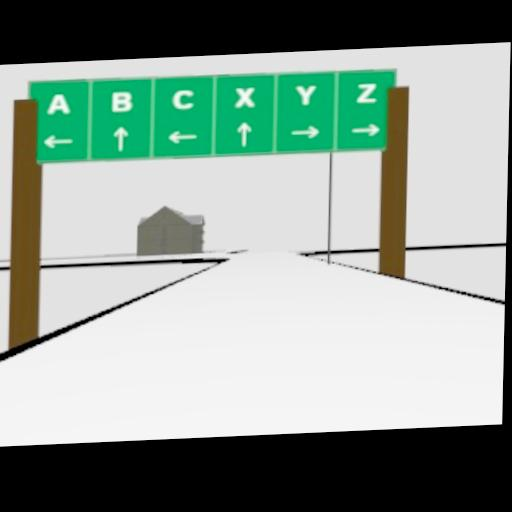A: (46, 91, 71, 115)
B: (111, 90, 132, 111)
C: (173, 89, 194, 109)
Left: (42, 133, 73, 149), (167, 129, 198, 143)
Right: (352, 122, 380, 137), (290, 125, 319, 139)
Straight: (235, 120, 251, 146), (112, 126, 128, 151)
X: (234, 86, 255, 108)
Y: (294, 85, 317, 105)
Z: (356, 83, 377, 103)
